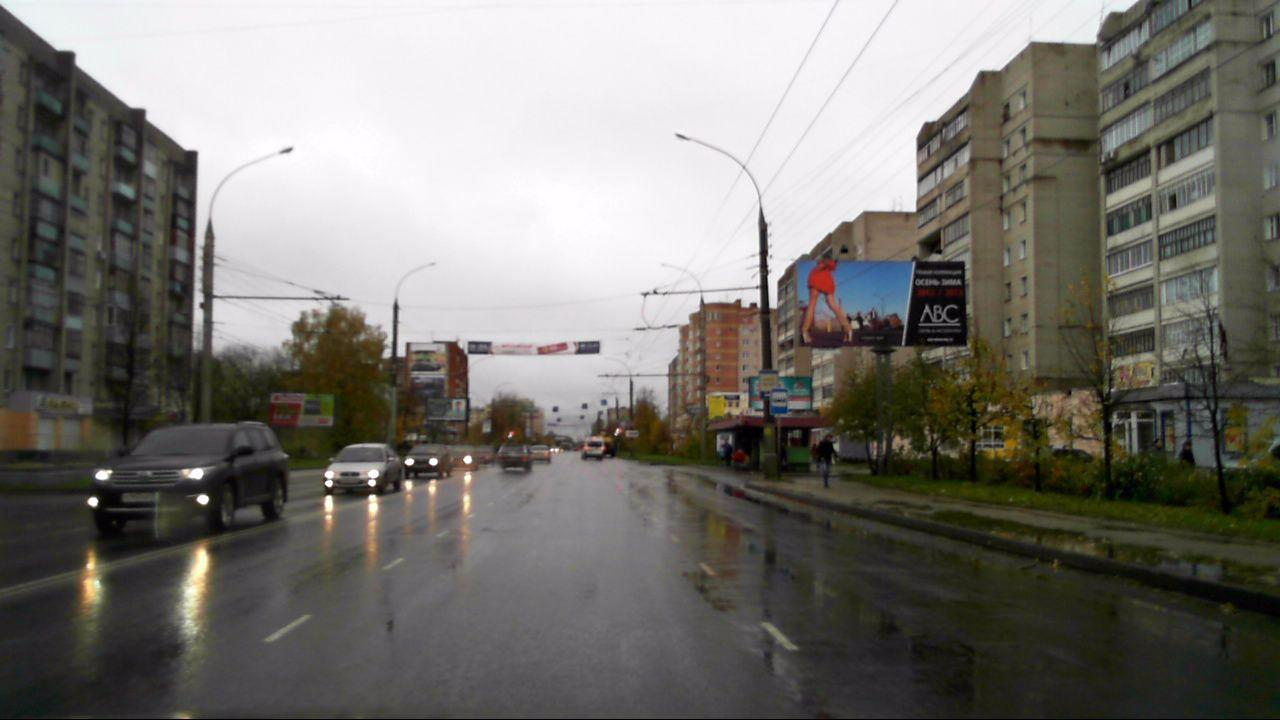5_16: (770, 388, 788, 414)
